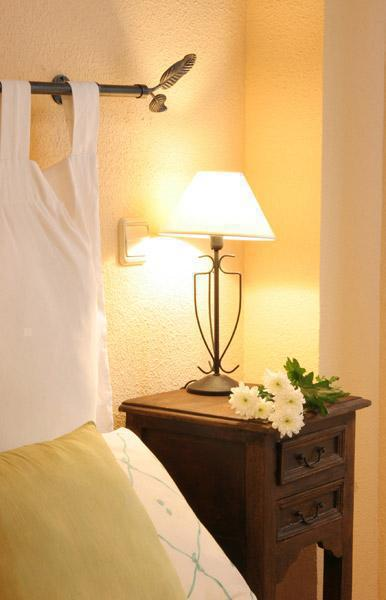Cama: (9, 423, 253, 597)
